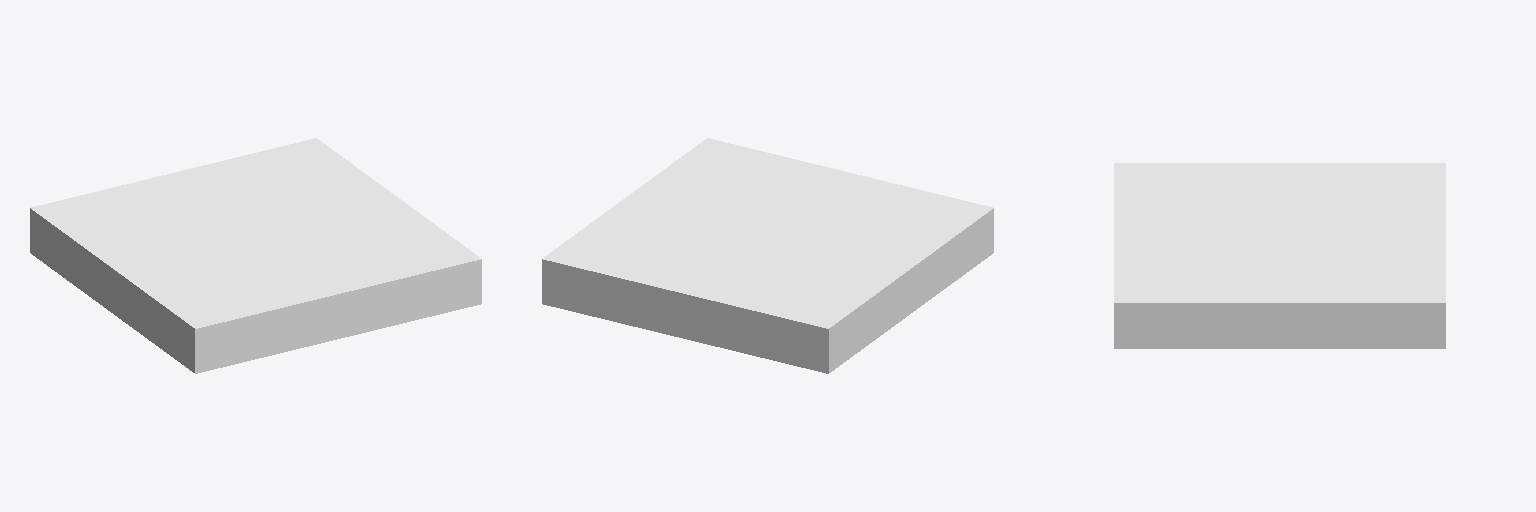
File: brickfloor01.obj
3 renders of one model, left to right at view 1: azimuth 30°, elevation 25°; view 2: azimuth 150°, elevation 25°; view 3: azimuth 270°, elevation 25°, orthographic.
Parts seen in each view (by area): view 1: object 1; view 2: object 1; view 3: object 1.
Part boxes in pixels (bbox=[...]): object 1: bbox=[30, 138, 481, 373]; object 1: bbox=[542, 138, 993, 373]; object 1: bbox=[1114, 163, 1445, 348].
Bounding box in the file's own units: 2 × 0.3 × 2.